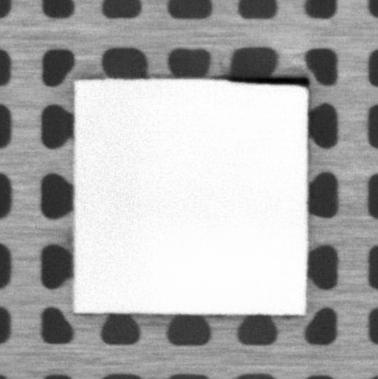DIE_BROKEN: (214, 74, 311, 89)
